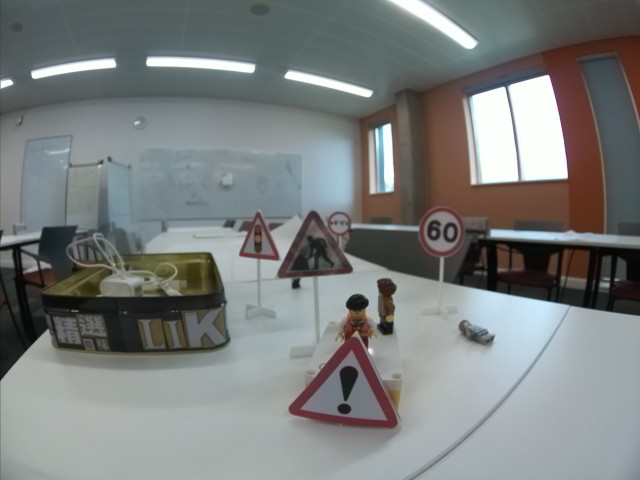60mph: (418, 205, 466, 259)
6ft6: (326, 210, 353, 236)
Lego Man: (335, 294, 376, 348), (375, 277, 401, 334), (457, 319, 497, 345)
Roadworks: (278, 211, 353, 278)
Traffic lights: (238, 212, 278, 259)
Warning: (292, 333, 404, 432)
